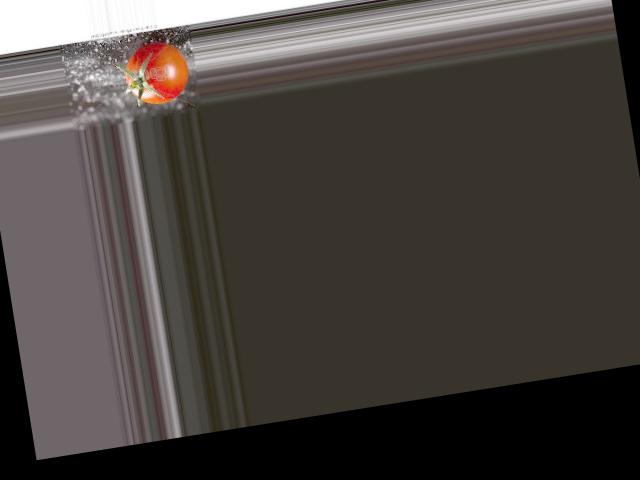tomato: (121, 38, 192, 108)
